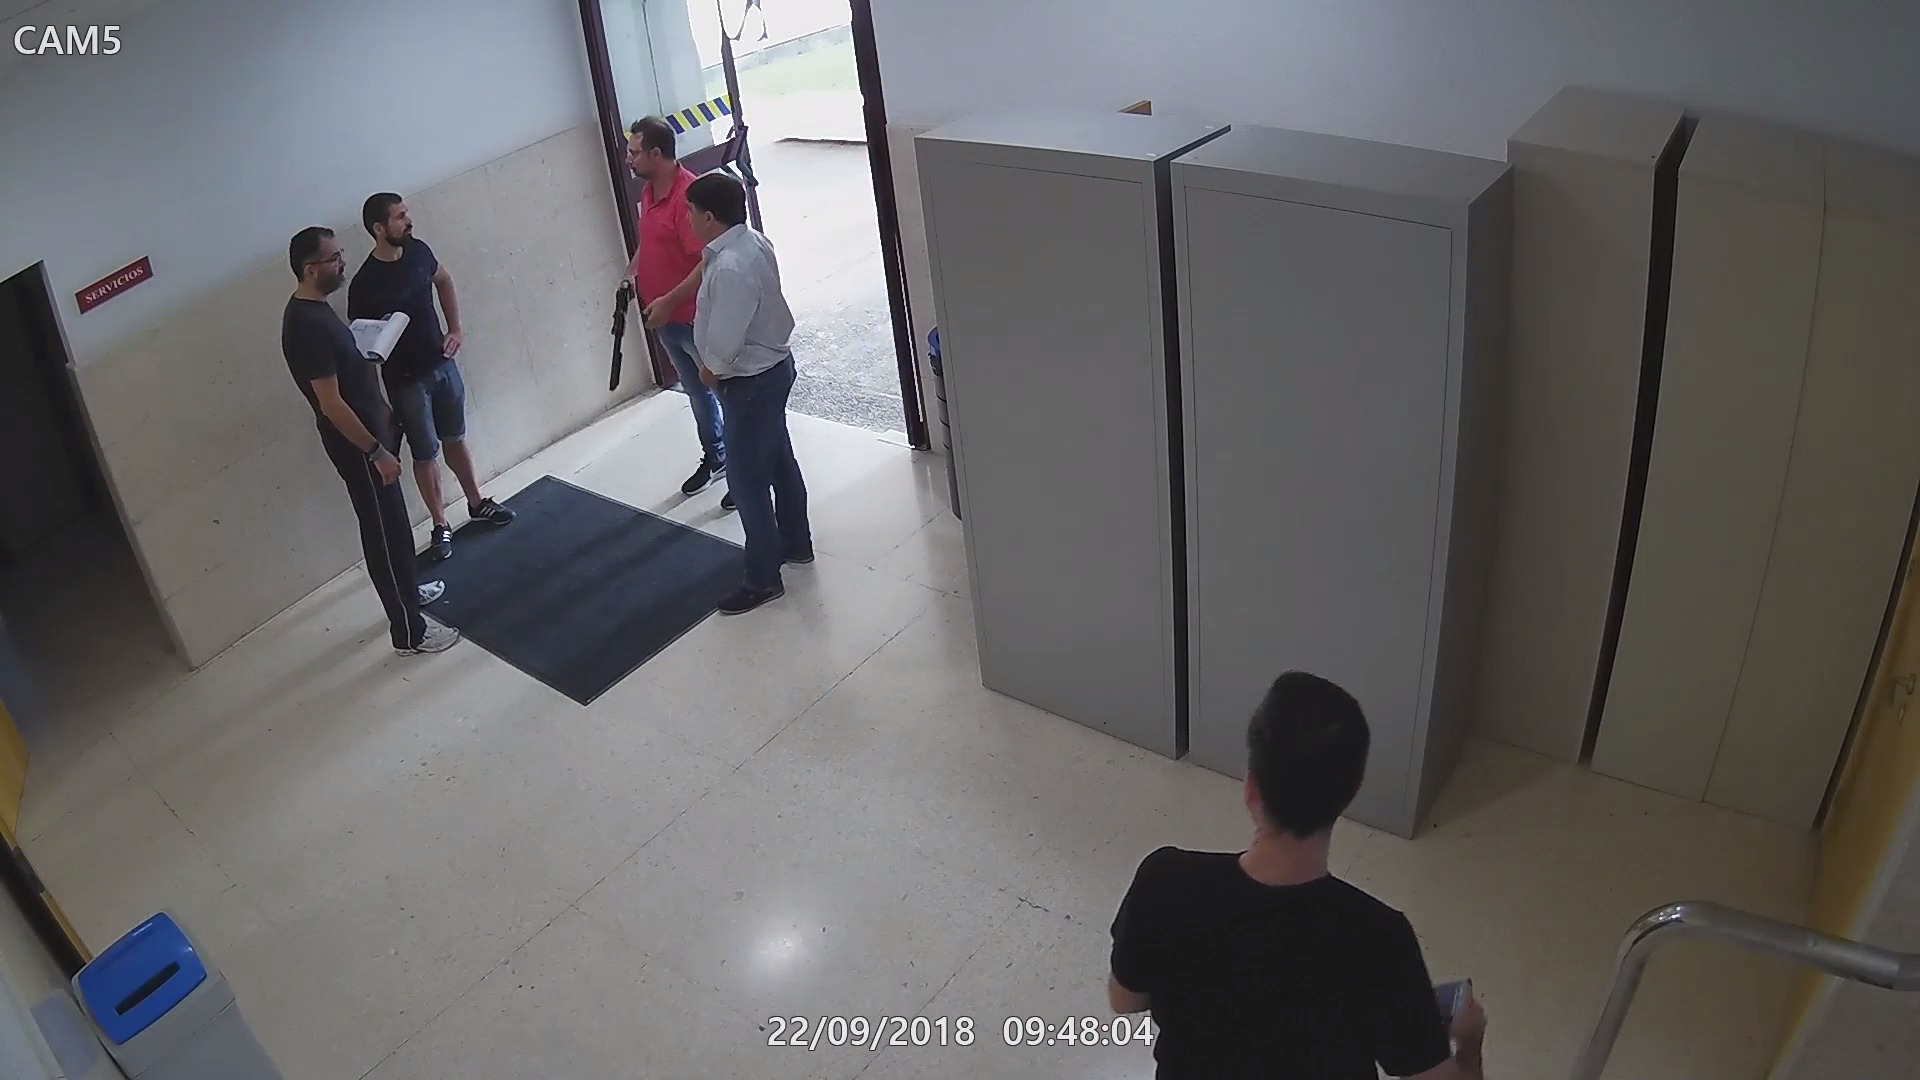Short_rifle: (603, 269, 638, 400), (385, 400, 411, 467)
